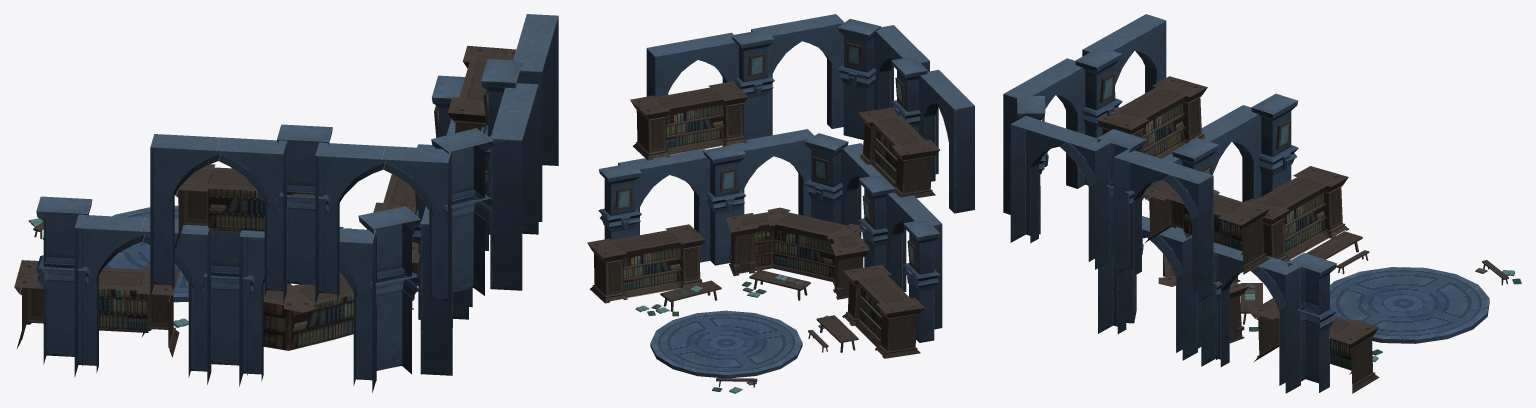
The model's file is Area_02_1.fbx.
3 renders of one model, left to right at view 1: azimuth 30°, elevation 25°; view 2: azimuth 150°, elevation 25°; view 3: azimuth 270°, elevation 25°, orthographic. The views are drawn at different scales.
Parts seen in each view (by area): view 1: Area_02_1; view 2: Area_02_1; view 3: Area_02_1.
Boxes of the visible parts, x1,y1,x2,y2 form: Area_02_1: [14, 14, 558, 392]; Area_02_1: [587, 14, 974, 393]; Area_02_1: [1003, 14, 1521, 393].
Size of the model in its own units: 3927 by 2232 by 4707.
